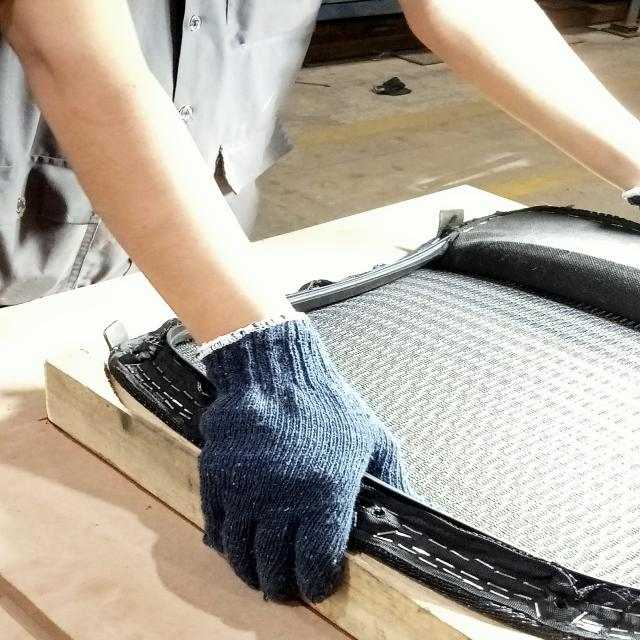Gloves-Detection: (178, 333, 404, 593)
